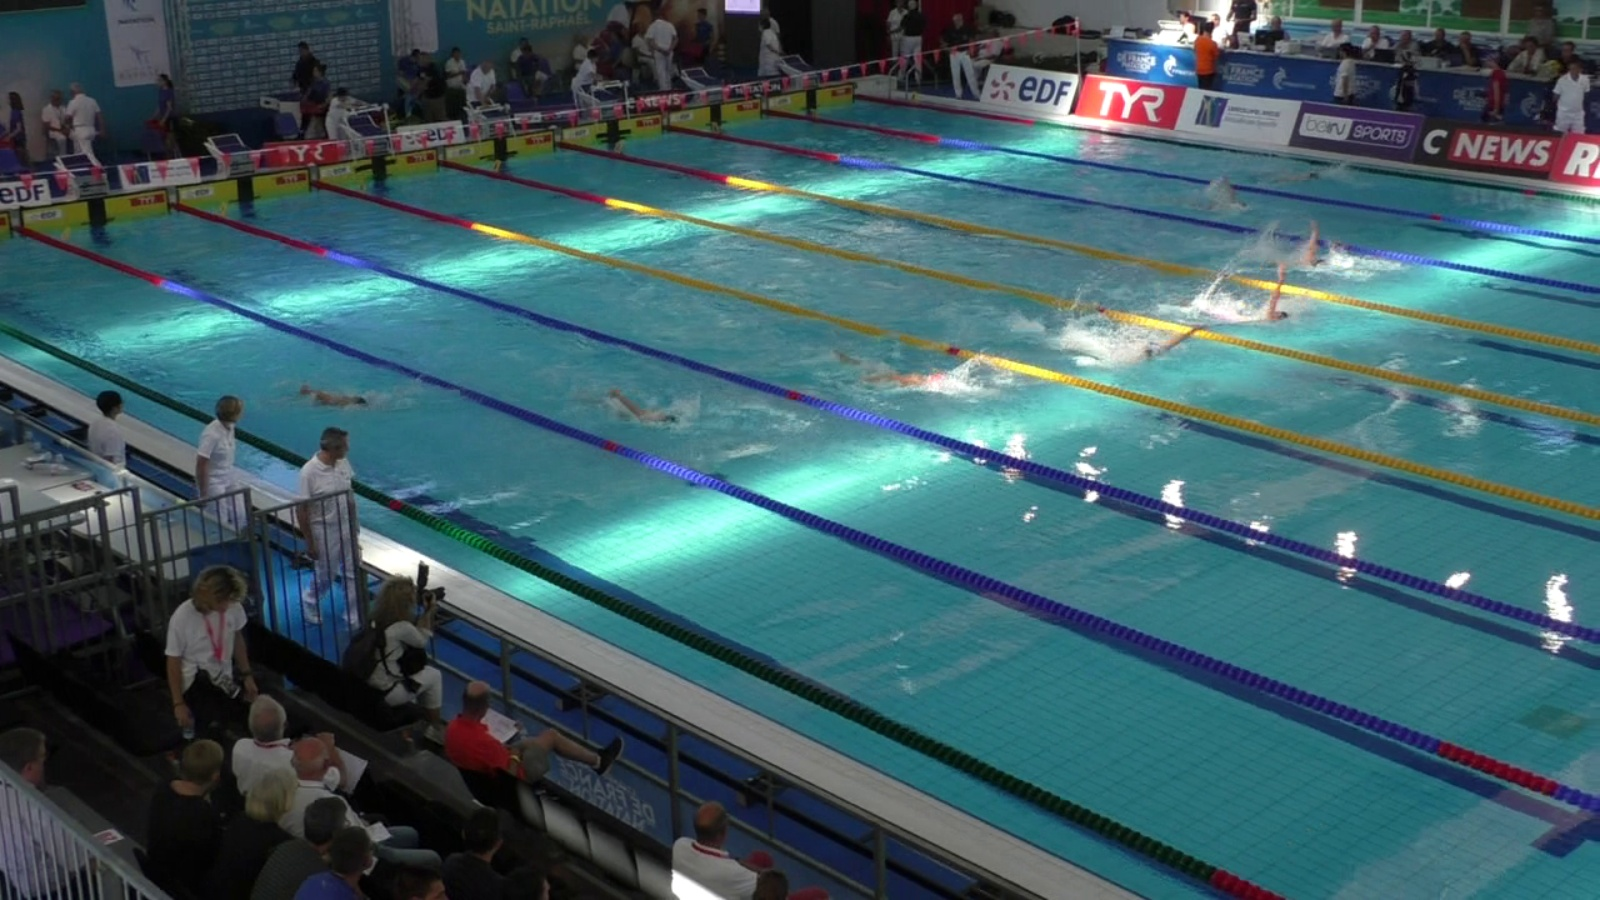swimmerw: (823, 343, 986, 408), (1043, 324, 1214, 364), (1182, 268, 1290, 324), (1237, 221, 1338, 271), (593, 387, 695, 432), (286, 373, 391, 409), (1177, 184, 1258, 216), (1263, 165, 1349, 181)
